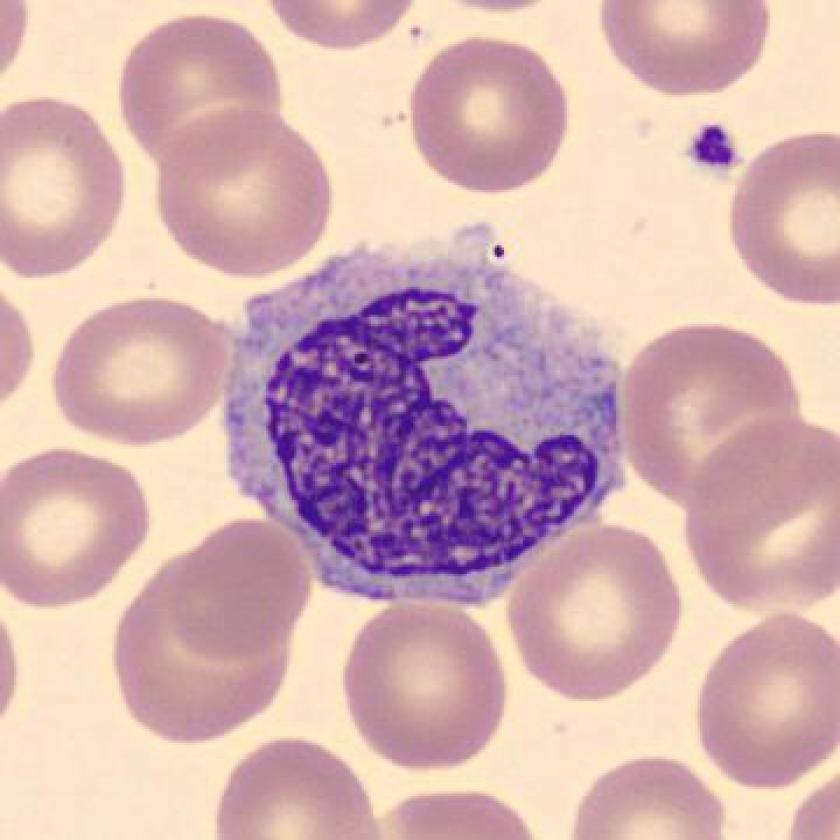monocyte: (211, 205, 647, 617)
